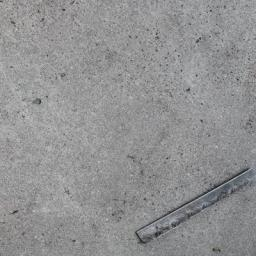FOD: (136, 166, 256, 256)
